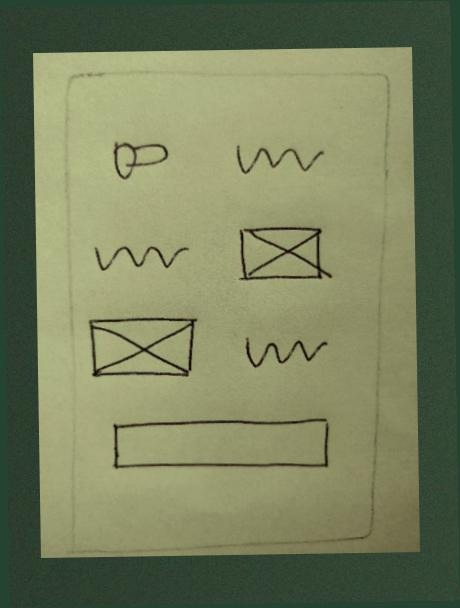image: (80, 311, 205, 385), (230, 220, 337, 290)
switch: (106, 133, 177, 187)
text: (85, 236, 195, 281), (239, 330, 335, 378), (228, 138, 331, 179)
text_input: (105, 414, 334, 480)
